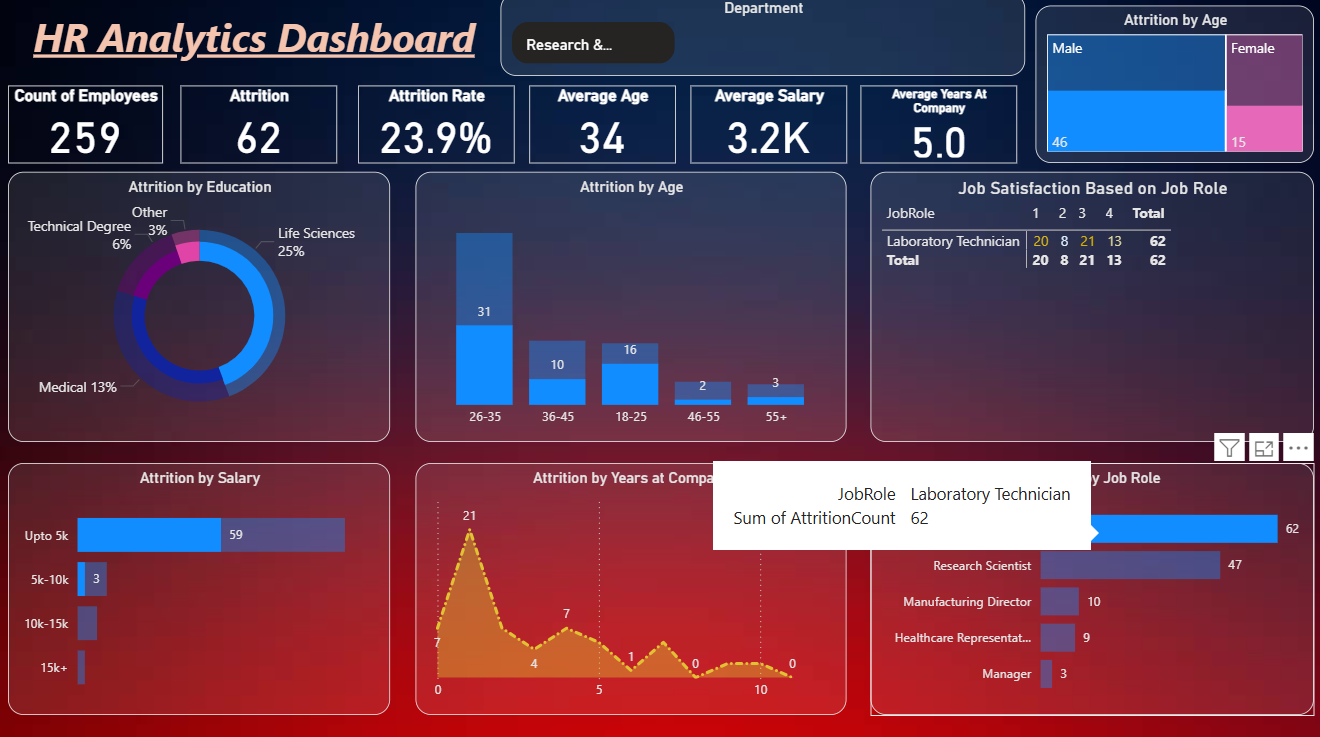

The dashboard page shown, as its layout file describes it:
{"tool":"powerbi","page":{"name":"Page 1","canvas":[1280,720],"ordinal":0},"visuals":[{"type":"card","title":"Count of Employees","fields":{"Values":["CountNonNull(HR_Analytics (1).EmpID)"]},"box":[9.6,89.2,149.6,75.5],"z":0},{"type":"card","title":"Attrition","fields":{"Values":["Sum(HR_Analytics (1).AttritionCount)"]},"box":[175.6,89.2,150.9,75.5],"z":1000},{"type":"card","title":"Attrition Rate","fields":{"Values":["HR_Analytics (1).AttritionRate"]},"box":[347.2,89.2,150.9,75.5],"z":2000},{"type":"card","title":"Average Age","fields":{"Values":["Avg(HR_Analytics (1).Age)"]},"box":[513.2,89.2,141.3,75.5],"z":3000},{"type":"card","title":"Average Years At Company","fields":{"Values":["Avg(HR_Analytics (1).YearsAtCompany)"]},"box":[832.9,89.2,150.9,75.5],"z":4000},{"type":"card","title":"Average Salary","fields":{"Values":["Avg(HR_Analytics (1).MonthlyIncome)"]},"box":[668.3,89.2,150.9,75.5],"z":5000},{"type":"donutChart","title":"Attrition by Education","fields":{"Category":["HR_Analytics (1).EducationField"],"Y":["Sum(HR_Analytics (1).AttritionCount)"]},"box":[9.6,172.9,369.1,260.7],"z":6000},{"type":"columnChart","title":"Attrition by Age","fields":{"Category":["HR_Analytics (1).AgeGroup"],"Y":["Sum(HR_Analytics (1).AttritionCount)"]},"box":[403.4,172.9,415.8,260.7],"z":7000},{"type":"pivotTable","title":"Job Satisfaction Based on Job Role","fields":{"Rows":["HR_Analytics (1).JobRole"],"Columns":["HR_Analytics (1).JobSatisfaction"],"Values":["Sum(HR_Analytics (1).AttritionCount)"]},"box":[842.1,172.5,428.3,260.6],"z":8000},{"type":"barChart","title":"Attrition by Salary ","fields":{"Category":["HR_Analytics (1).SalarySlab"],"Y":["Sum(HR_Analytics (1).AttritionCount)"]},"box":[9.6,454.2,369.1,242.9],"z":9000},{"type":"barChart","title":"Attrition by Job Role","fields":{"Category":["HR_Analytics (1).JobRole"],"Y":["Sum(HR_Analytics (1).AttritionCount)"]},"box":[842.5,454.2,428.1,242.9],"z":10000},{"type":"areaChart","title":"Attrition by Years at Company","fields":{"Category":["HR_Analytics (1).YearsAtCompany"],"Y":["Sum(HR_Analytics (1).AttritionCount)"]},"box":[403.4,454.2,415.8,242.9],"z":11000},{"type":"treemap","title":"Attrition by Age","fields":{"Group":["HR_Analytics (1).Gender"],"Values":["Sum(HR_Analytics (1).AttritionCount)"]},"box":[1001.7,12.3,269,152.3],"z":12000},{"type":"advancedSlicerVisual","fields":{"Values":["HR_Analytics (1).Department"]},"box":[485,0,506.7,79.6],"z":13000},{"type":"textbox","box":[9.6,12.3,474.8,67.2],"z":14000}]}

Visuals, with their boxes in screenshot pixels (x1, y1, x2, y2), scaled from the page's 1280x720 canvas onto the 1320x737 screenshot:
"Count of Employees" card: [left=10, top=91, right=164, bottom=169]
"Attrition" card: [left=181, top=91, right=337, bottom=169]
"Attrition Rate" card: [left=358, top=91, right=514, bottom=169]
"Average Age" card: [left=529, top=91, right=675, bottom=169]
"Average Years At Company" card: [left=859, top=91, right=1015, bottom=169]
"Average Salary" card: [left=689, top=91, right=845, bottom=169]
"Attrition by Education" donutChart: [left=10, top=177, right=391, bottom=444]
"Attrition by Age" columnChart: [left=416, top=177, right=845, bottom=444]
"Job Satisfaction Based on Job Role" pivotTable: [left=868, top=177, right=1310, bottom=443]
"Attrition by Salary " barChart: [left=10, top=465, right=391, bottom=714]
"Attrition by Job Role" barChart: [left=869, top=465, right=1310, bottom=714]
"Attrition by Years at Company" areaChart: [left=416, top=465, right=845, bottom=714]
"Attrition by Age" treemap: [left=1033, top=13, right=1310, bottom=168]
advancedSlicerVisual - HR_Analytics (1).Department: [left=500, top=0, right=1023, bottom=81]
textbox: [left=10, top=13, right=500, bottom=81]
